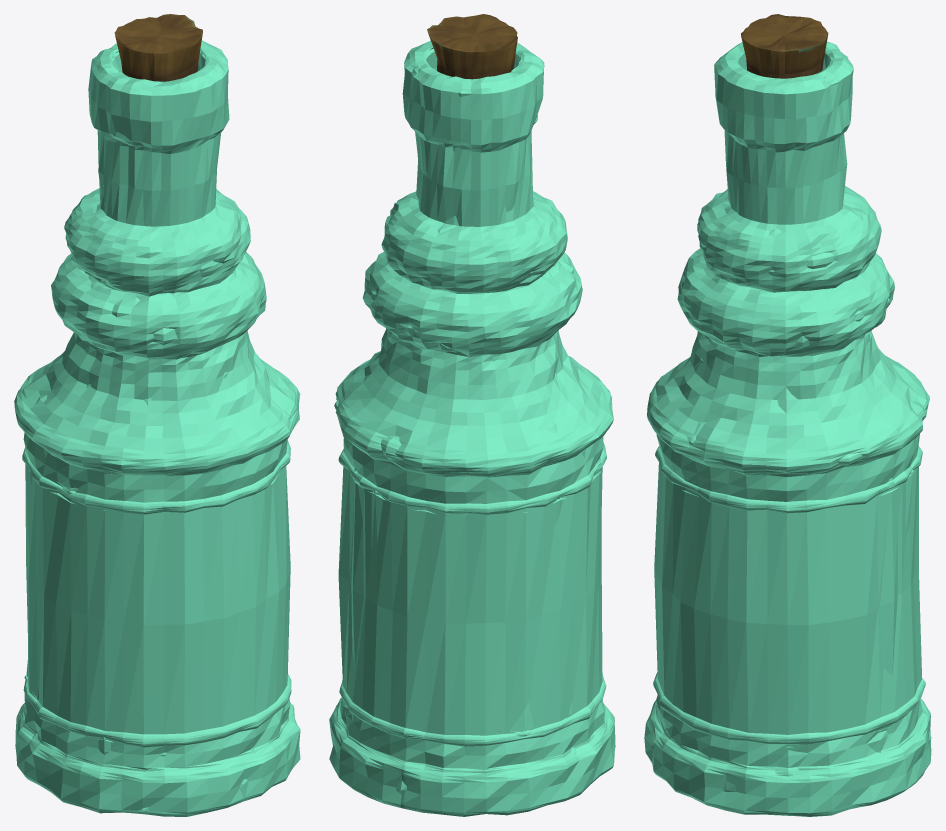
Rendered from crush_low_0.obj.
The picture shows the model from 3 angles, left to right: view 1: azimuth 30°, elevation 25°; view 2: azimuth 150°, elevation 25°; view 3: azimuth 270°, elevation 25°; orthographic projection.
Visible parts, largest first — view 1: model; view 2: model; view 3: model.
Part boxes in pixels (x1,y1,x2,y2): model: (14,14,300,816); model: (329,14,615,816); model: (644,14,931,816).
Size of the model in its own units: 0.0728 by 0.2021 by 0.072.
1 material, 1 textured.
